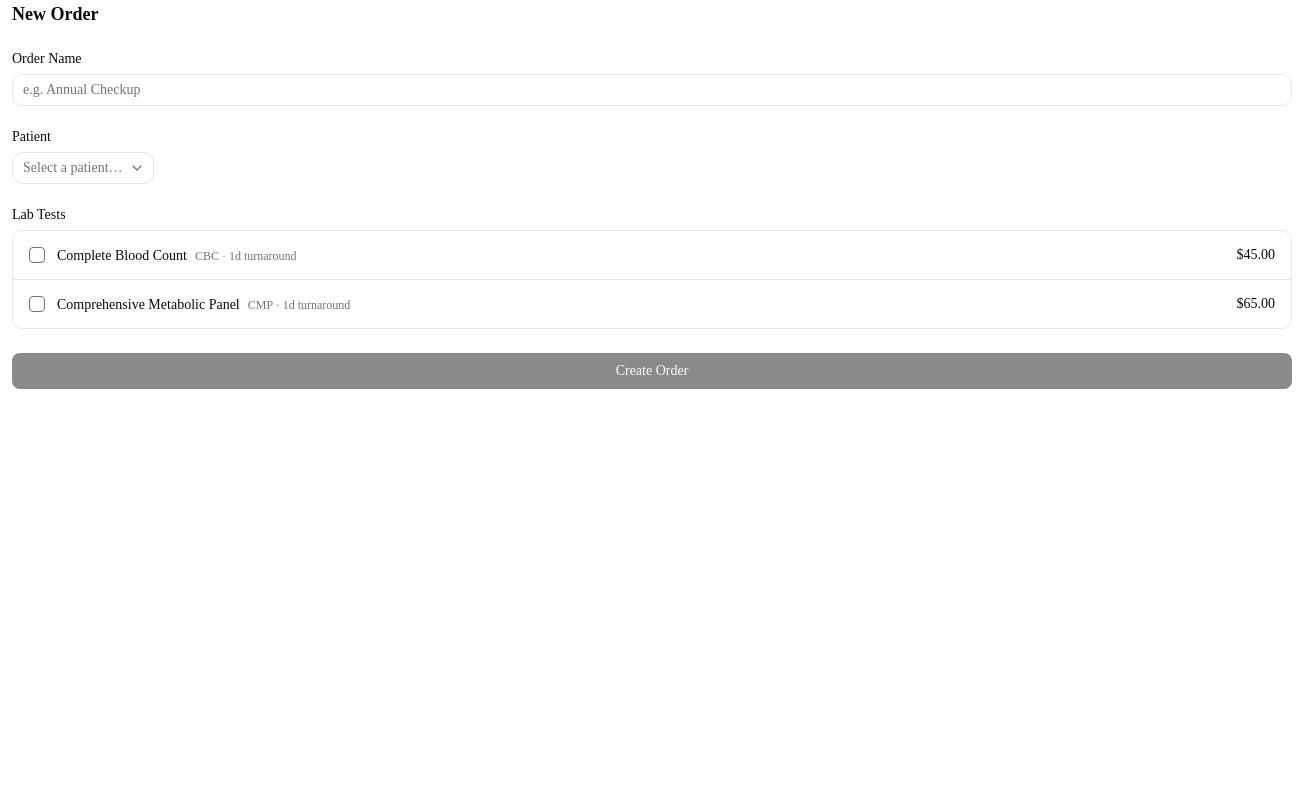
Test case: NewOrderForm › shows the correct running total for multiple selected tests
Click the button "Complete Blood Count".
click(122, 256)  # box x1=13 y1=231 x2=1291 y2=280
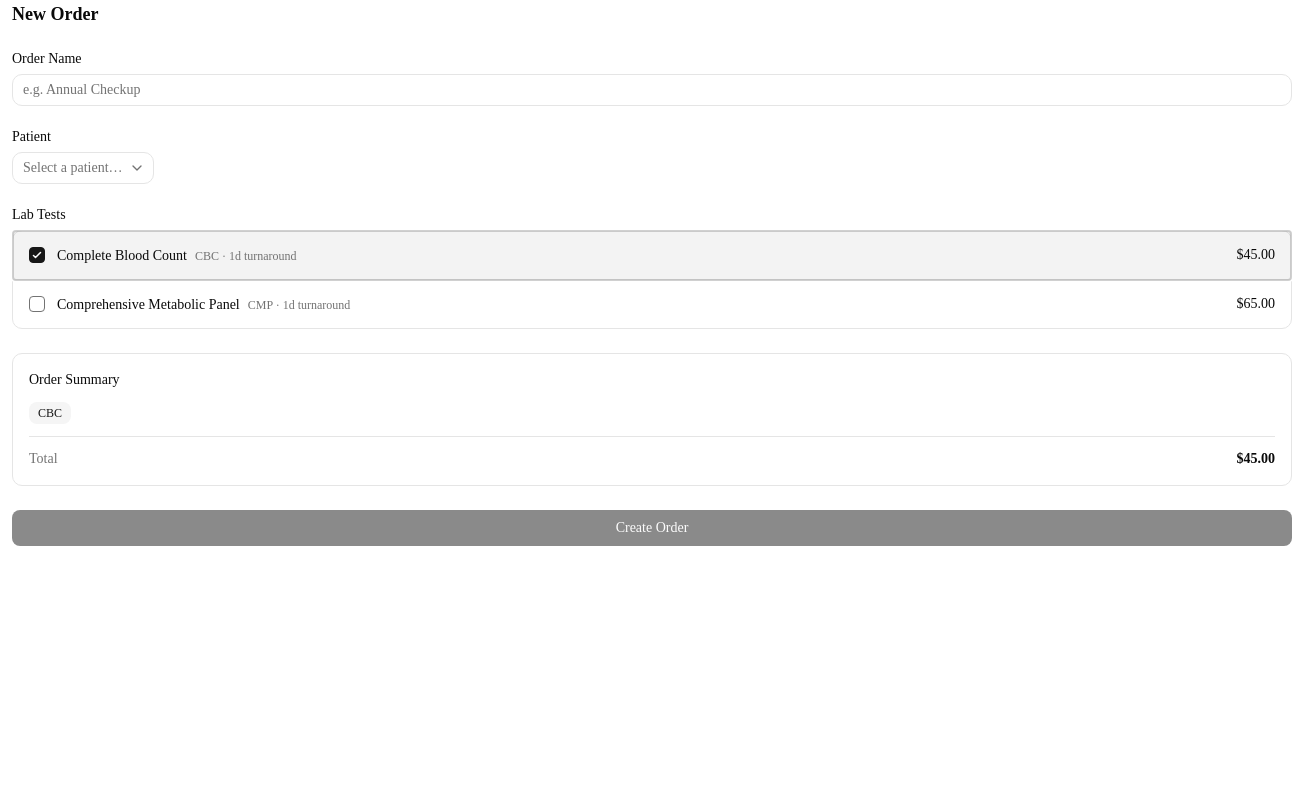
Click the button "Comprehensive Metabolic Panel".
click(148, 304)  # box x1=13 y1=280 x2=1291 y2=328
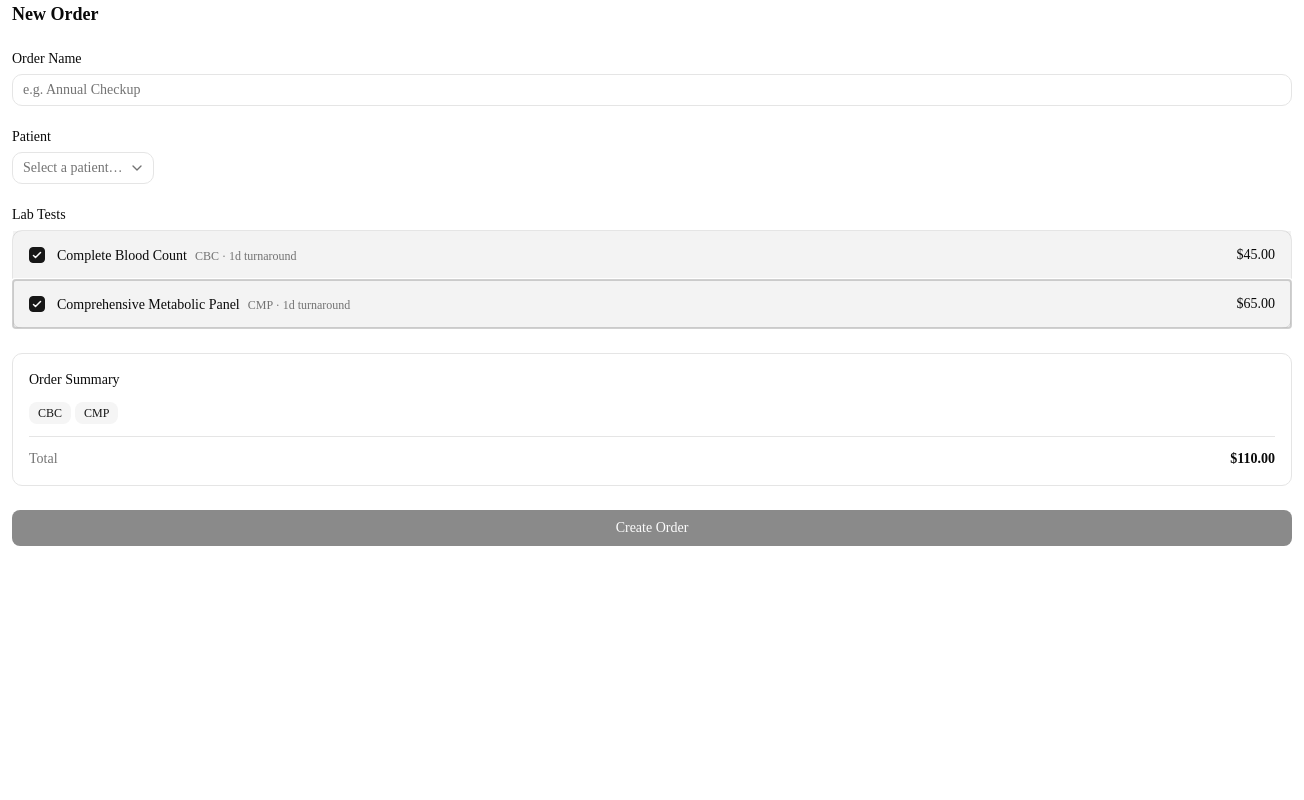
Expected: the text "$110.00" is shown, x1=1230 y1=449 x2=1275 y2=469
